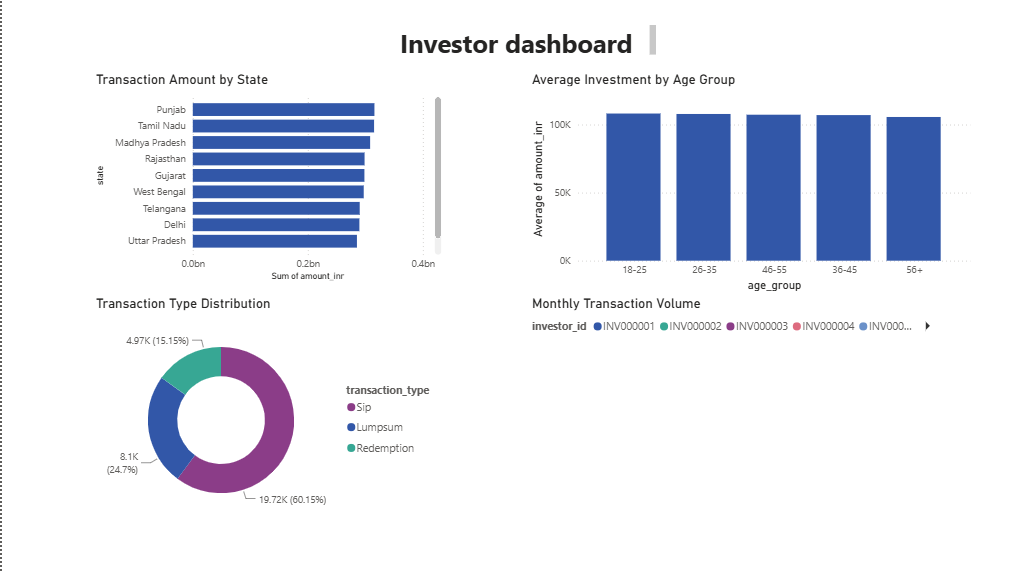

The page's visual inventory and layout, read from the dashboard file:
{"tool":"powerbi","page":{"name":"Investor Analytics","canvas":[1280,720],"ordinal":3},"visuals":[{"type":"clusteredBarChart","title":"Transaction Amount by State","fields":{"Y":["Sum(investor_transactions_clean.amount_inr)"],"Category":["investor_transactions_clean.state"]},"box":[112.8,88.5,441.6,267.5],"z":0},{"type":"donutChart","title":"Transaction Type Distribution","fields":{"Category":["investor_transactions_clean.transaction_type"],"Y":["CountNonNull(investor_transactions_clean.transaction_type)"]},"box":[112.8,368.6,441.6,293.7],"z":1000},{"type":"clusteredColumnChart","title":"Average Investment by Age Group","fields":{"Category":["investor_transactions_clean.age_group"],"Y":["Avg(investor_transactions_clean.amount_inr)"]},"box":[657.5,88.5,558.3,280.1],"z":2000},{"type":"lineChart","title":"Monthly Transaction Volume","fields":{"Category":["investor_transactions_clean.transaction_date.Variation.Date Hierarchy.Year","investor_transactions_clean.transaction_date.Variation.Date Hierarchy.Quarter","investor_transactions_clean.transaction_date.Variation.Date Hierarchy.Month","investor_transactions_clean.transaction_date.Variation.Date Hierarchy.Day"],"Series":["investor_transactions_clean.investor_id"]},"box":[657.5,368.6,519.4,293.7],"z":3000},{"type":"textbox","box":[492.2,26.3,329.7,49.6],"z":4000}]}

Visuals, with their boxes in screenshot pixels (x1, y1, x2, y2), scaled from the page's 1280x720 canvas onto the 1025x573 screenshot:
"Transaction Amount by State" clusteredBarChart: [90,70,444,283]
"Transaction Type Distribution" donutChart: [90,293,444,527]
"Average Investment by Age Group" clusteredColumnChart: [527,70,974,293]
"Monthly Transaction Volume" lineChart: [527,293,942,527]
textbox: [394,21,658,60]
